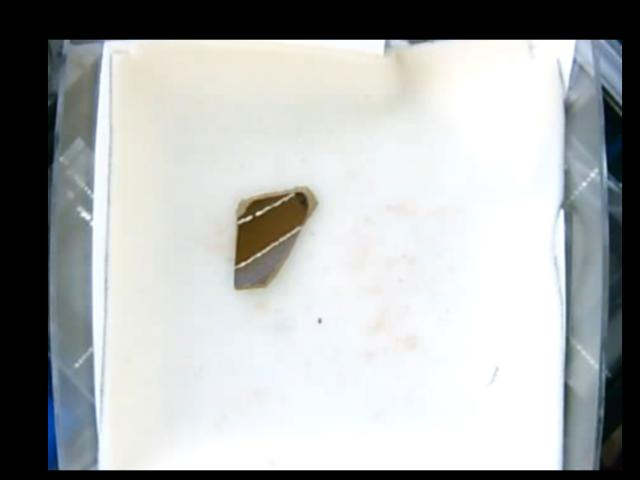China: (235, 184, 319, 290)
